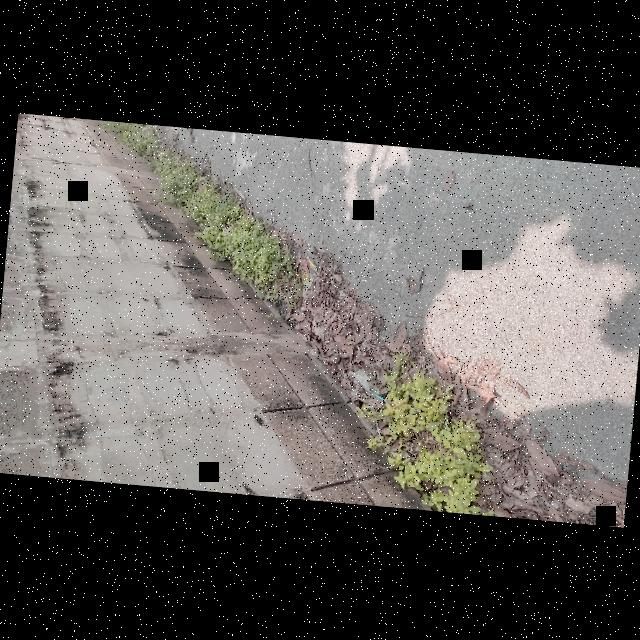scrap_plastic: (343, 363, 382, 405), (296, 250, 320, 292)
